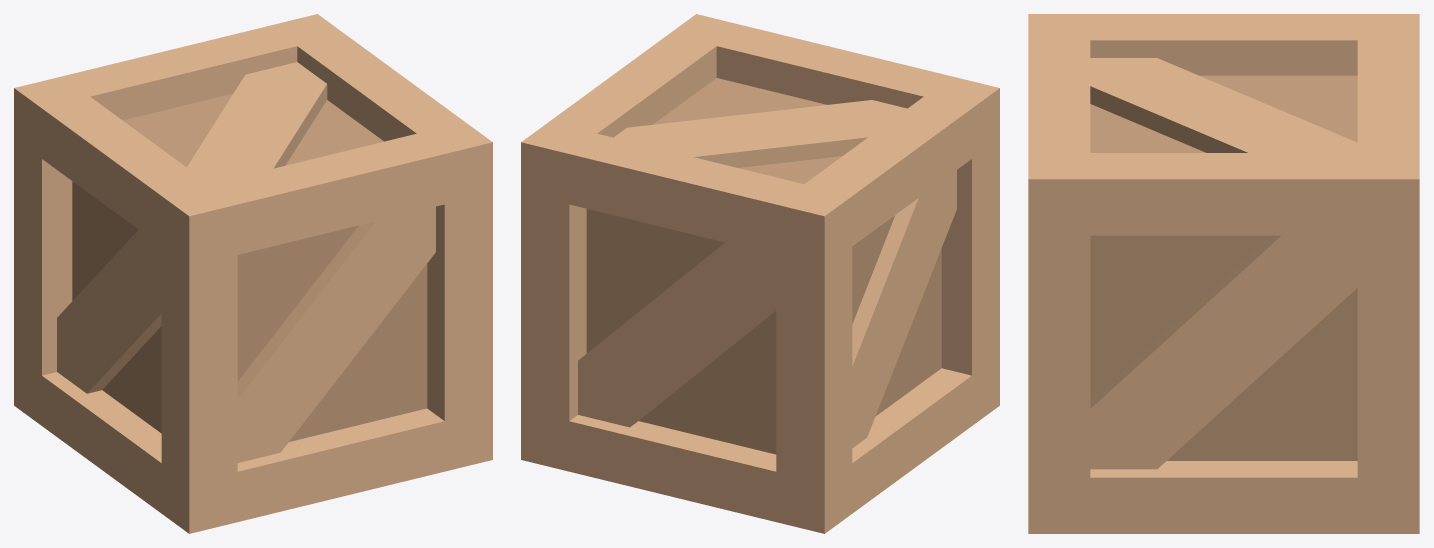
Rendered from crate.glb.
3 views of the same model, side by side, from view 1: azimuth 30°, elevation 25°; view 2: azimuth 150°, elevation 25°; view 3: azimuth 270°, elevation 25° (orthographic). The views are drawn at different scales.
Parts seen in each view (by area): view 1: crate(Clone); view 2: crate(Clone); view 3: crate(Clone).
Boxes of the visible parts, bbox=[...] form: crate(Clone): bbox=[14, 14, 492, 533]; crate(Clone): bbox=[521, 14, 999, 533]; crate(Clone): bbox=[1028, 14, 1419, 533].
Size of the model in its own units: 1 by 1 by 1.
